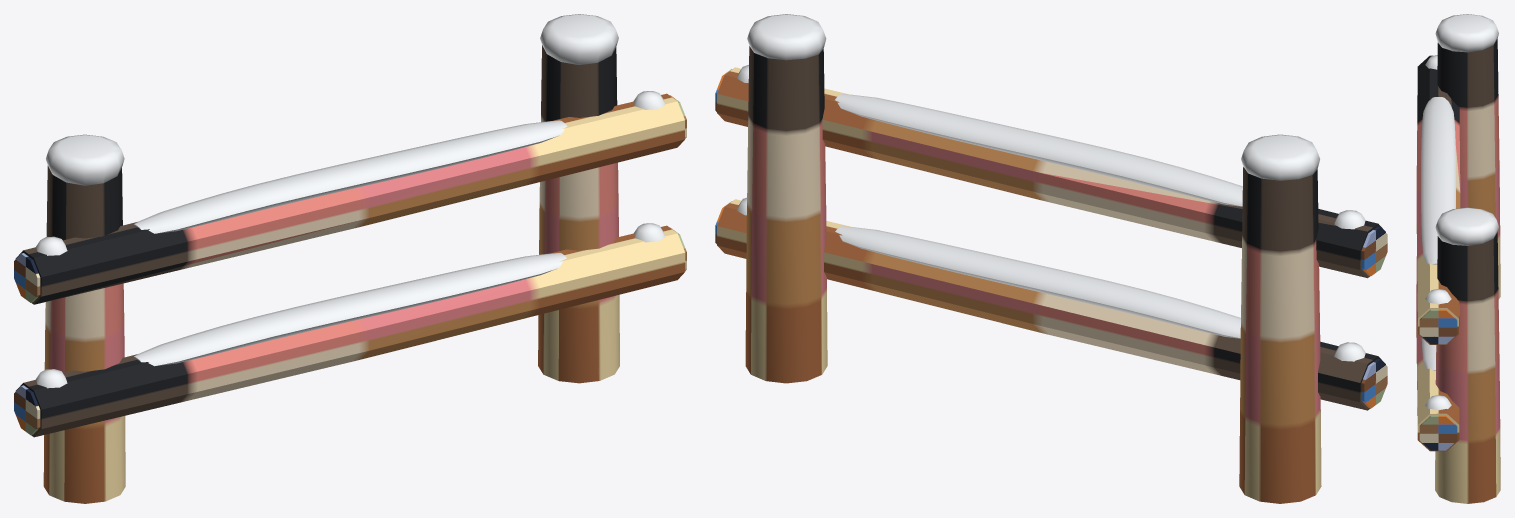
File: SnowyLogFence.obj
3 views of the same model, side by side, from view 1: azimuth 30°, elevation 25°; view 2: azimuth 150°, elevation 25°; view 3: azimuth 270°, elevation 25° (orthographic). The views are drawn at different scales.
Visible parts, largest first — view 1: SnowyLogFence; view 2: SnowyLogFence; view 3: SnowyLogFence.
Boxes of the visible parts, x1,y1,x2,y2 form: SnowyLogFence: (14,14,686,503); SnowyLogFence: (715,14,1387,503); SnowyLogFence: (1416,14,1500,503).
Size of the model in its own units: 11.3 by 5.67 by 1.59.
Materials: 1 (1 with a texture image).
